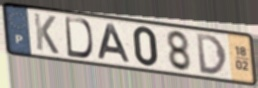0: (132, 26, 160, 68)
8: (165, 29, 193, 73)
A: (96, 23, 133, 65)
D: (194, 32, 229, 76), (63, 15, 95, 60)
K: (32, 11, 61, 56)
